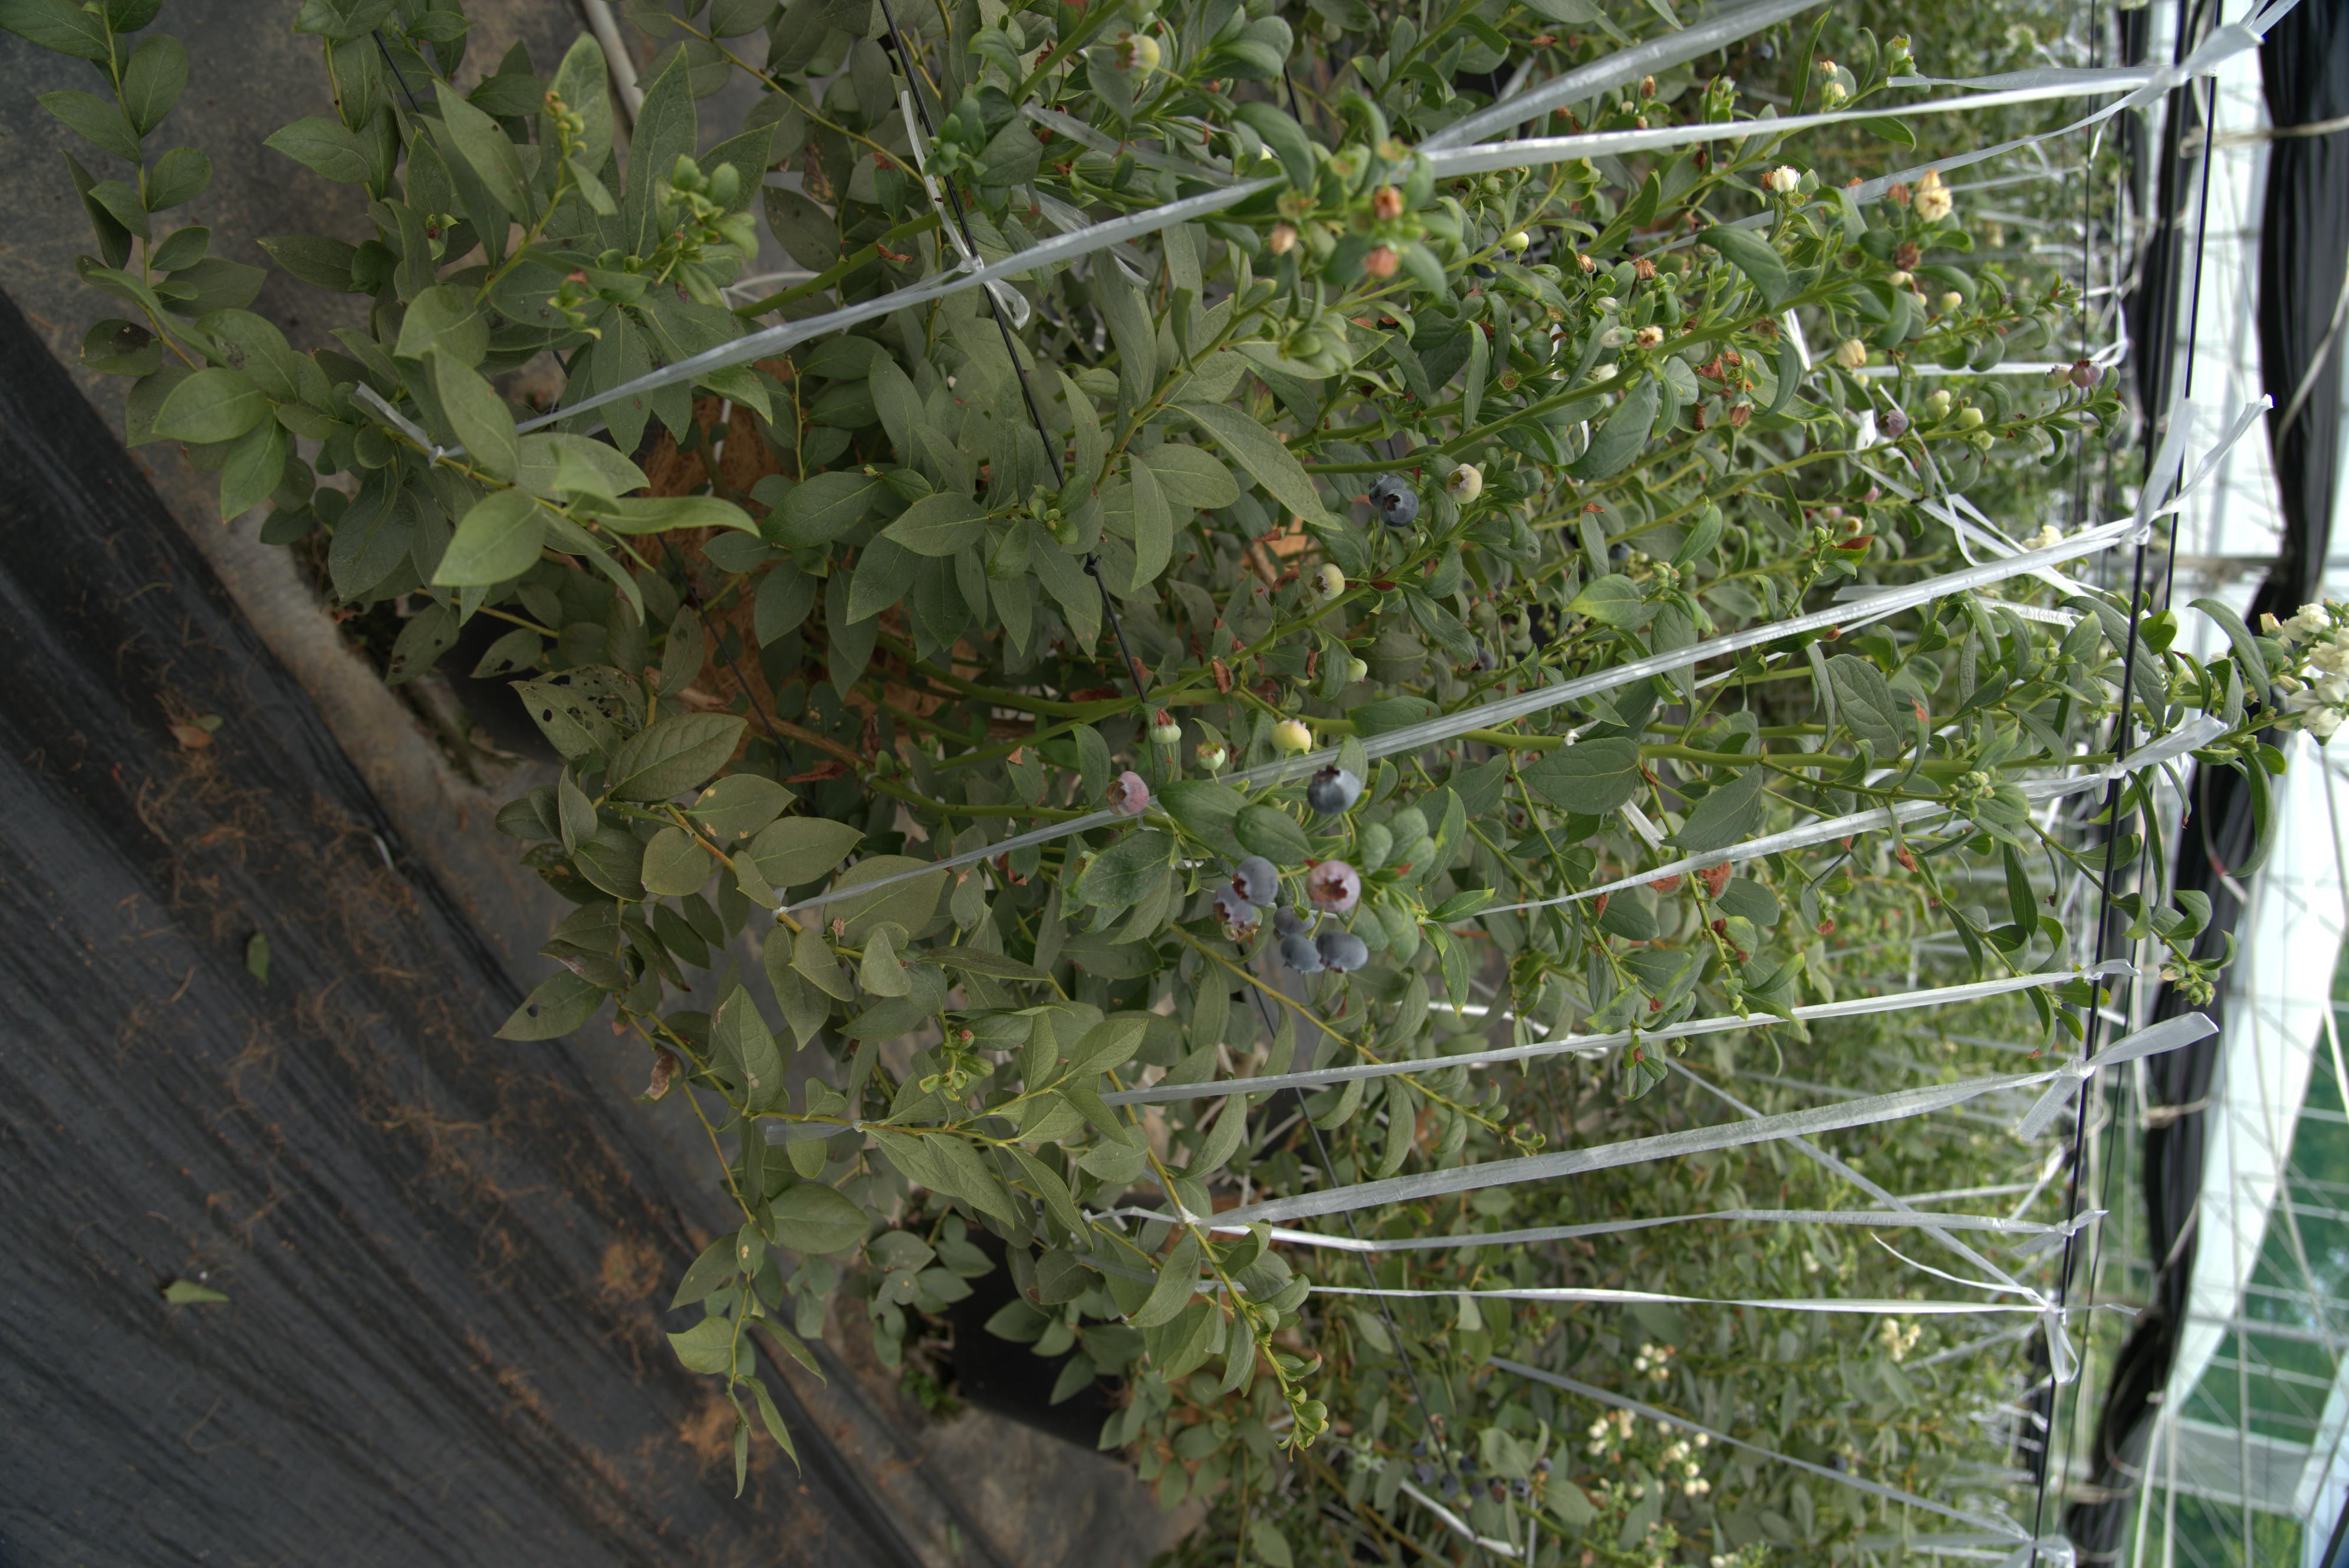ripe-blueberries: (1288, 660, 1365, 696), (1145, 661, 1222, 695), (1332, 724, 1406, 758), (1393, 686, 1472, 716), (1395, 654, 1463, 688), (1285, 714, 1357, 744), (733, 619, 788, 646), (1357, 688, 1400, 719), (709, 630, 760, 654), (973, 572, 1006, 583)
semi-ripe-blueberries: (1073, 691, 1136, 723), (51, 796, 123, 822), (693, 577, 758, 604), (840, 670, 901, 693), (537, 163, 586, 187), (606, 294, 658, 317)
